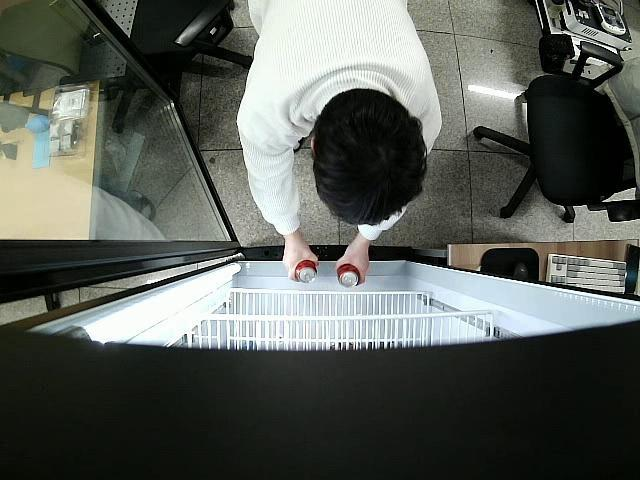11_cocaColaZero: (338, 263, 362, 290), (293, 260, 318, 285)
